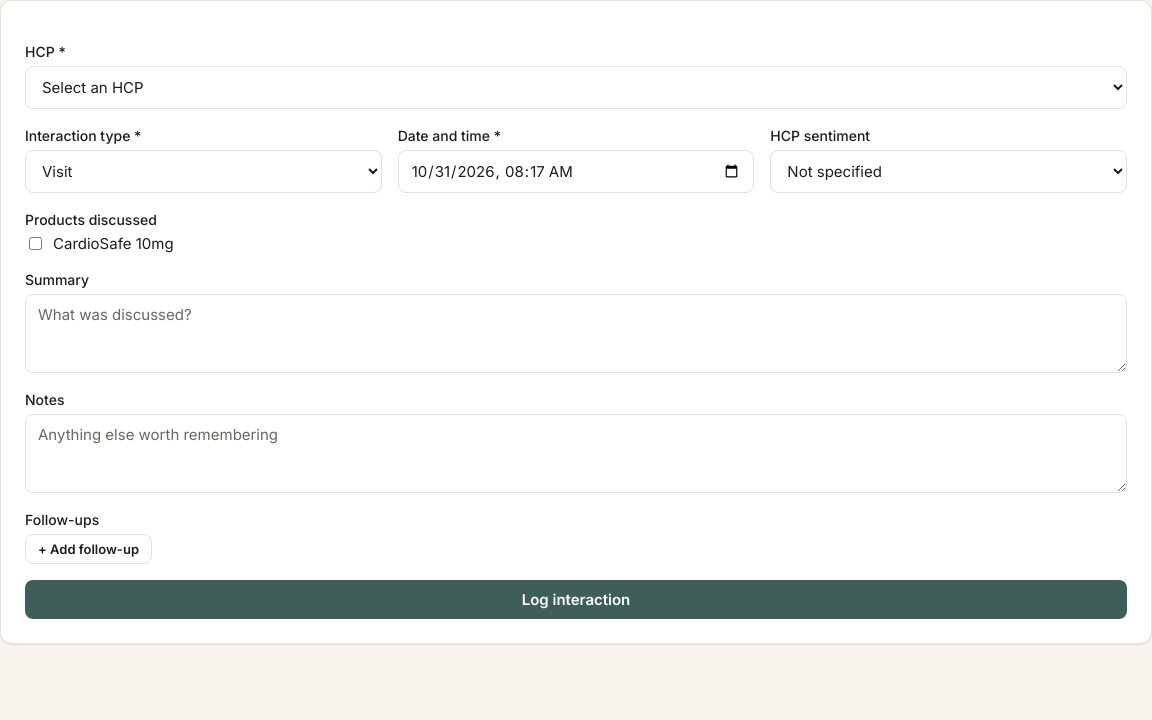
LogInteractionForm › submits the right payload
The width and height of the screenshot is (1152, 720).
Step 1. Select "Dr. Rohan Kapoor (Cardiology)" in the dropdown labelled "HCP *" → point(576, 88), box [25,66,1127,109]
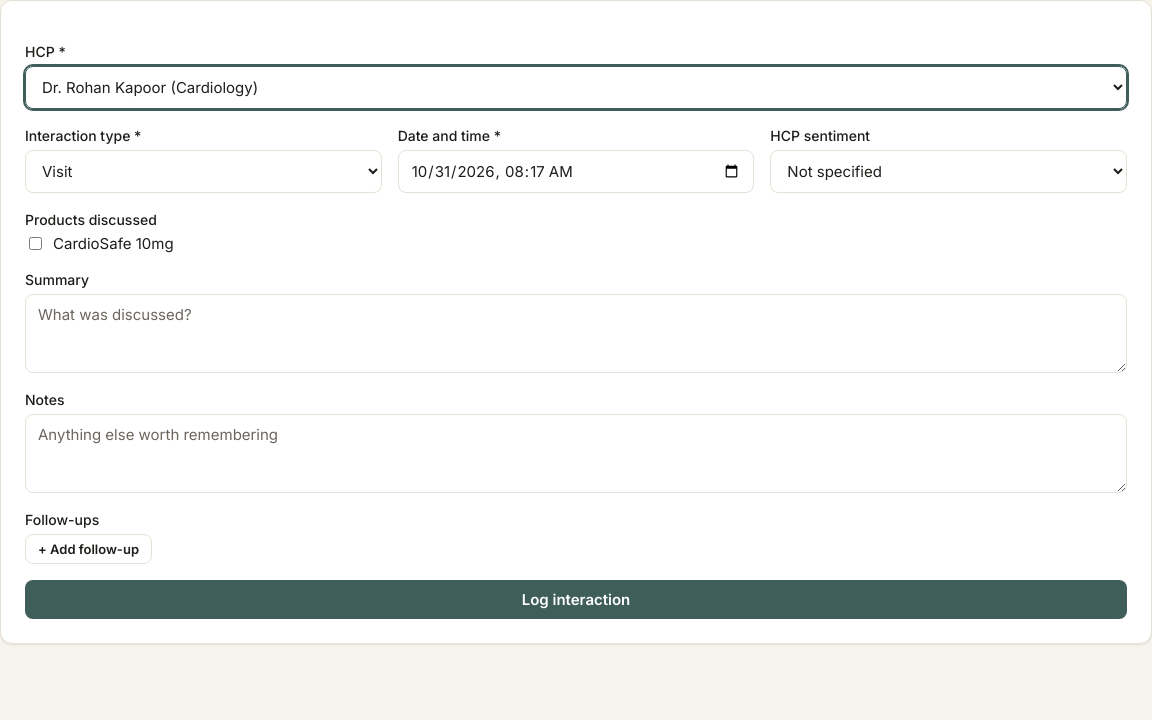
Step 2. Select "Positive" in the dropdown labelled "HCP sentiment" → point(949, 172), box [770,150,1127,193]
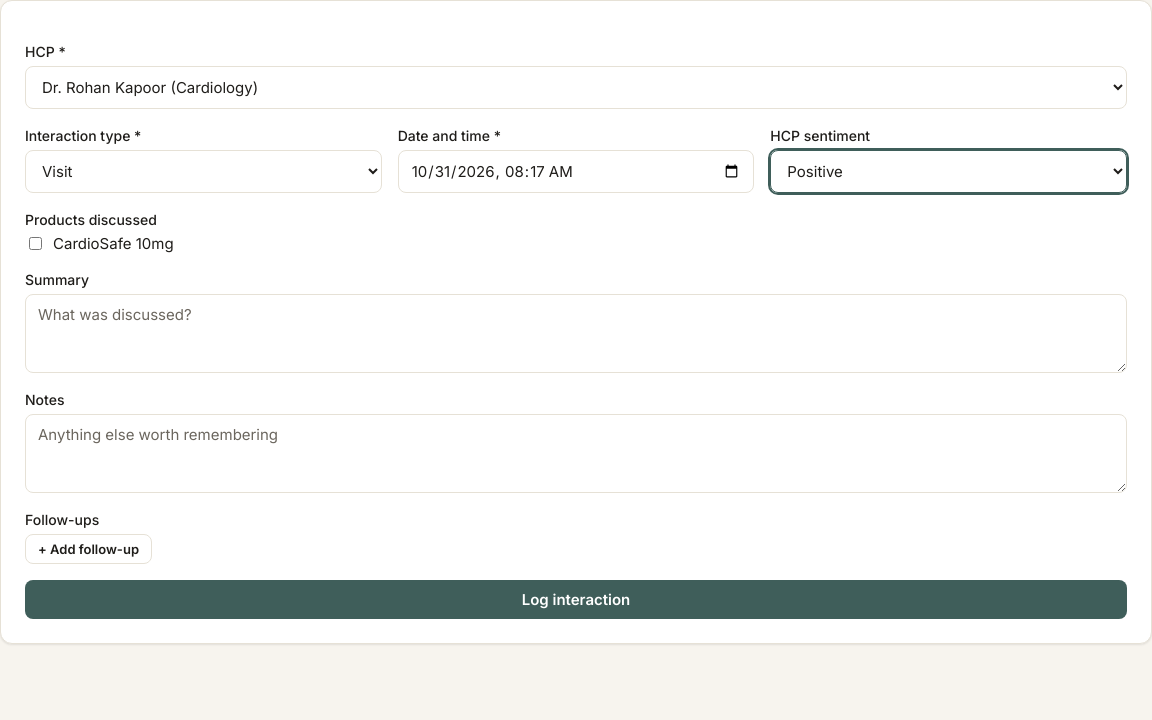
Step 3. Click the checkbox labelled "CardioSafe 10mg" → point(36, 244), box [29,237,42,250]
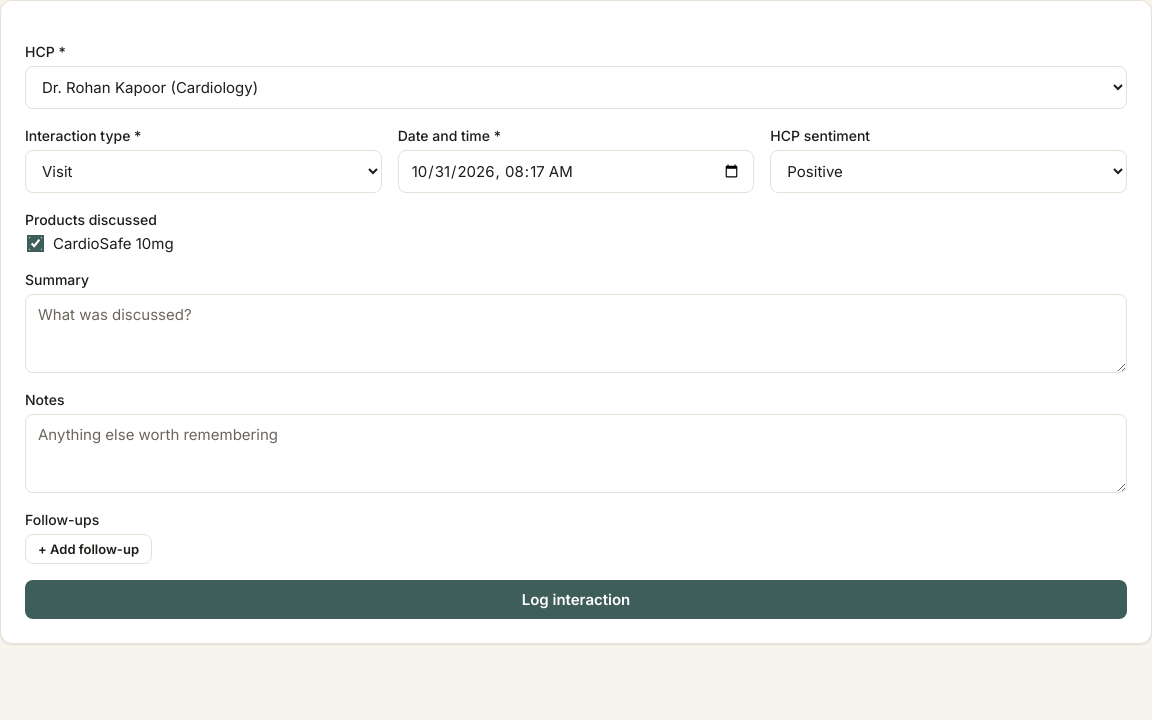
Step 4. Type "Went well" into the text box labelled "Summary" → point(576, 334), box [25,294,1127,373]
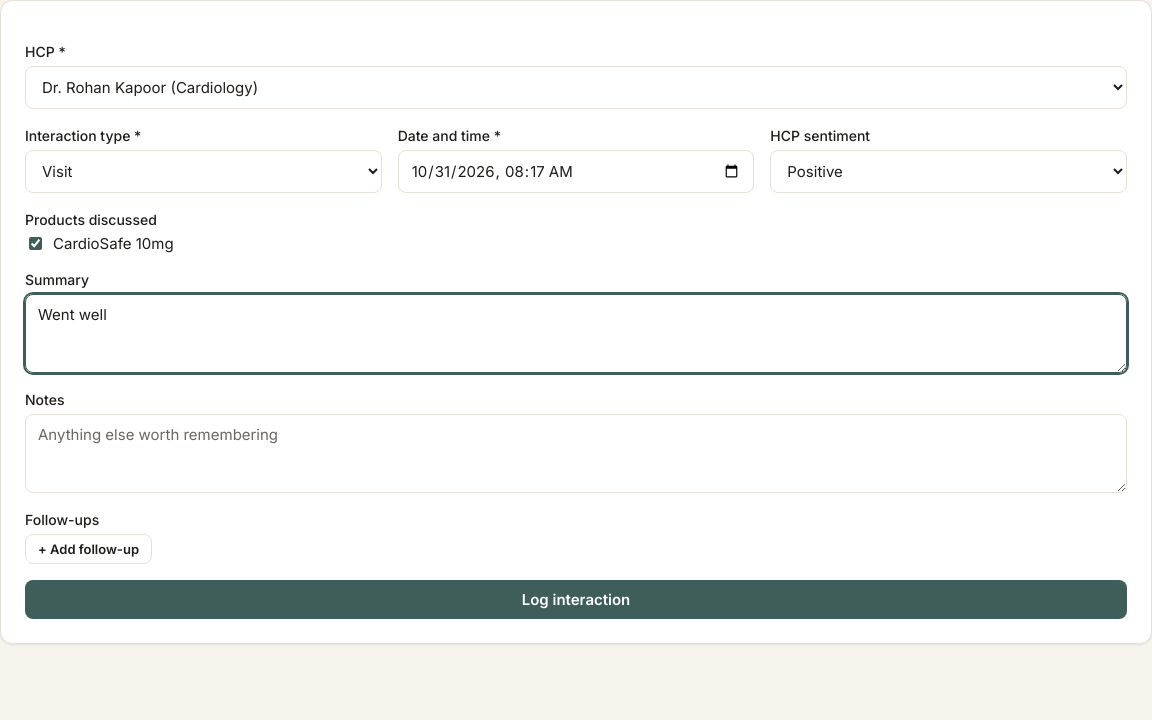
Step 5. Click the button "Log interaction" → point(576, 600), box [25,580,1127,619]
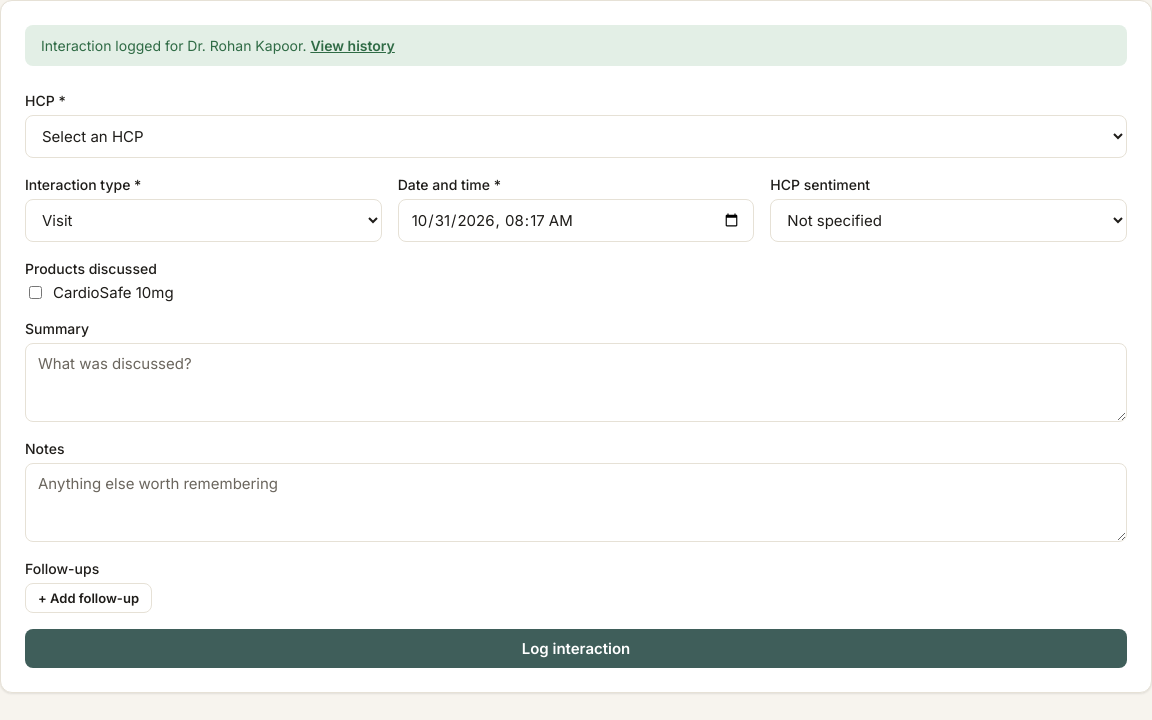
Expected: the text "Interaction logged for Dr. Rohan Kapoor. View history" is shown, [25,25,1127,66]
